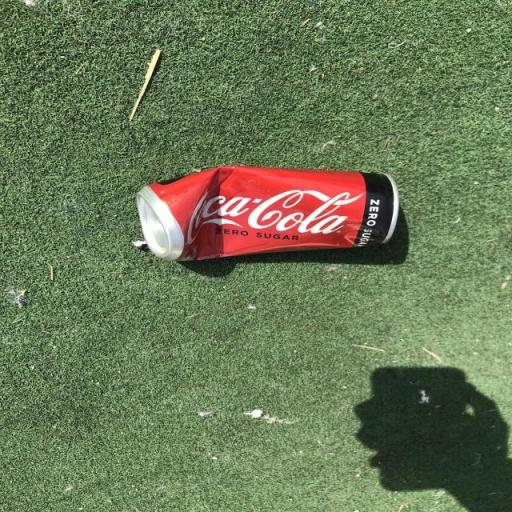metal: (117, 151, 421, 285)
